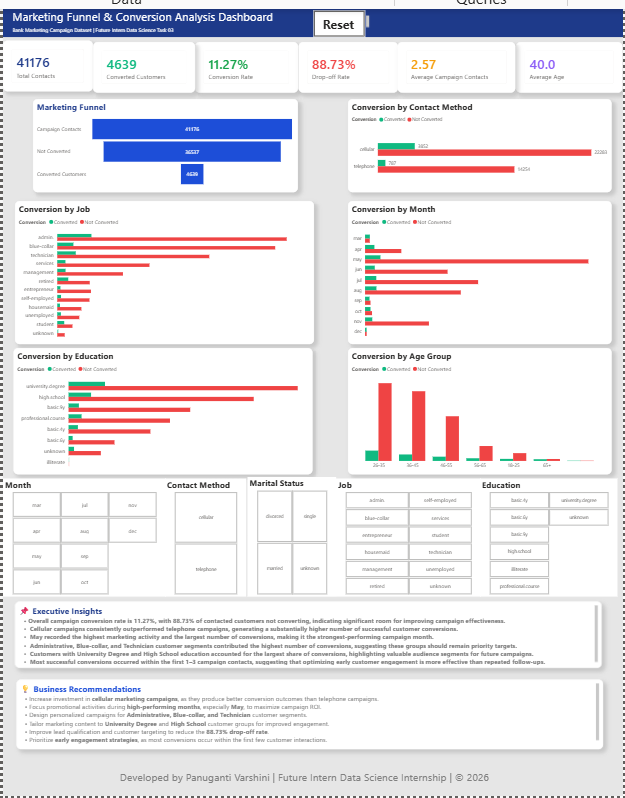

What the dashboard file says about the page in this screenshot:
{"tool":"powerbi","page":{"name":"Page 1","canvas":[1600,2030],"ordinal":0},"visuals":[{"type":"shape","box":[0,0,1601,72.4],"z":0},{"type":"textbox","title":"Marketing Funnel & Conversion Analysis Dashboard","box":[19.1,0,914.9,68.6],"z":1},{"type":"cardVisual","fields":{"Data":["Marketing_Funnel_Final.Total Contacts"]},"box":[0,82.3,231.8,131.1],"z":2},{"type":"cardVisual","fields":{"Data":["Marketing_Funnel_Final.Conversion Rate"]},"box":[495.6,83.4,265.8,130.7],"z":3},{"type":"cardVisual","fields":{"Data":["Marketing_Funnel_Final.Average Age"]},"box":[1324.7,83.4,274.8,130.7],"z":4},{"type":"cardVisual","fields":{"Data":["Marketing_Funnel_Final.Converted Customers"]},"box":[232,83.4,263.6,130.7],"z":5},{"type":"cardVisual","fields":{"Data":["Marketing_Funnel_Final.Drop-off Rate"]},"box":[761.5,83.4,256.8,130.7],"z":6},{"type":"cardVisual","fields":{"Data":["Marketing_Funnel_Final.Average Campaign Contacts"]},"box":[1018.3,83.4,304.1,130.7],"z":7},{"type":"funnel","title":"Marketing Funnel","fields":{"Category":["Marketing_Funnel.Stage"],"Y":["Sum(Marketing_Funnel.Customers)"]},"box":[79.3,231.8,683.1,240.9],"z":8},{"type":"clusteredBarChart","title":"Conversion by Contact Method","fields":{"Category":["Marketing_Funnel_Final.contact"],"Series":["Marketing_Funnel_Final.Conversion"],"Y":["Marketing_Funnel_Final.Total Contacts"]},"box":[890.5,231.8,680.1,240.9],"z":9},{"type":"clusteredBarChart","title":"Conversion by Job","fields":{"Category":["Marketing_Funnel_Final.job"],"Series":["Marketing_Funnel_Final.Conversion"],"Y":["Marketing_Funnel_Final.Total Contacts"]},"box":[30.5,494,771.6,369],"z":10},{"type":"clusteredBarChart","title":"Conversion by Month","fields":{"Series":["Marketing_Funnel_Final.Conversion"],"Y":["Marketing_Funnel_Final.Total Contacts"],"Category":["Month_Sort.Month"]},"box":[890.5,494,680.1,369],"z":11},{"type":"clusteredBarChart","title":"Conversion by Education","fields":{"Category":["Marketing_Funnel_Final.education"],"Series":["Marketing_Funnel_Final.Conversion"],"Y":["Marketing_Funnel_Final.Total Contacts"]},"box":[27.4,875.2,771.6,326.3],"z":12},{"type":"clusteredColumnChart","title":"Conversion by Age Group","fields":{"Category":["Marketing_Funnel_Final.Age_Group"],"Series":["Marketing_Funnel_Final.Conversion"],"Y":["Marketing_Funnel_Final.Total Contacts"]},"box":[890.5,875.2,680.1,326.3],"z":13},{"type":"slicer","title":"Month","fields":{"Values":["Month_Sort.Month"]},"box":[0,1212.2,419.3,305],"z":14},{"type":"slicer","title":"Contact Method","fields":{"Values":["Marketing_Funnel_Final.contact"]},"box":[419.3,1212.2,209.7,305],"z":15},{"type":"slicer","title":"Job","fields":{"Values":["Marketing_Funnel_Final.job"]},"box":[857.7,1212.2,373.6,305],"z":17},{"type":"slicer","title":"Marital Status","fields":{"Values":["Marketing_Funnel_Final.marital"]},"box":[629,1208.4,228.7,308.8],"z":18},{"type":"slicer","title":"Education","fields":{"Values":["Marketing_Funnel_Final.education"]},"box":[1231.3,1212.2,354.5,305],"z":19},{"type":"actionButton","title":"RESET","box":[800.5,3.8,133.4,68.6],"z":20},{"type":"textbox","box":[789.1,11.4,160.1,45.7],"z":21},{"type":"textbox","box":[30.5,1528.6,1513.4,171.5],"z":22},{"type":"textbox","box":[34.5,1727.8,1513.3,180.1],"z":23},{"type":"textbox","box":[100,100,300,300],"z":24},{"type":"textbox","box":[147,1957.8,1261.4,54.2],"z":25}]}

Visuals, with their boxes on the page's 1600x2030 design canvas (x1, y1, x2, y2). These are canvas units, not pixel positions in the 625x798 screenshot, which may show the page scaled, cropped or inside an application window:
shape: detection(0, 0, 1601, 72)
"Marketing Funnel & Conversion Analysis Dashboard" textbox: detection(19, 0, 934, 69)
cardVisual - Marketing_Funnel_Final.Total Contacts: detection(0, 82, 232, 213)
cardVisual - Marketing_Funnel_Final.Conversion Rate: detection(496, 83, 761, 214)
cardVisual - Marketing_Funnel_Final.Average Age: detection(1325, 83, 1600, 214)
cardVisual - Marketing_Funnel_Final.Converted Customers: detection(232, 83, 496, 214)
cardVisual - Marketing_Funnel_Final.Drop-off Rate: detection(762, 83, 1018, 214)
cardVisual - Marketing_Funnel_Final.Average Campaign Contacts: detection(1018, 83, 1322, 214)
"Marketing Funnel" funnel: detection(79, 232, 762, 473)
"Conversion by Contact Method" clusteredBarChart: detection(890, 232, 1571, 473)
"Conversion by Job" clusteredBarChart: detection(30, 494, 802, 863)
"Conversion by Month" clusteredBarChart: detection(890, 494, 1571, 863)
"Conversion by Education" clusteredBarChart: detection(27, 875, 799, 1202)
"Conversion by Age Group" clusteredColumnChart: detection(890, 875, 1571, 1202)
"Month" slicer: detection(0, 1212, 419, 1517)
"Contact Method" slicer: detection(419, 1212, 629, 1517)
"Job" slicer: detection(858, 1212, 1231, 1517)
"Marital Status" slicer: detection(629, 1208, 858, 1517)
"Education" slicer: detection(1231, 1212, 1586, 1517)
"RESET" actionButton: detection(800, 4, 934, 72)
textbox: detection(789, 11, 949, 57)
textbox: detection(30, 1529, 1544, 1700)
textbox: detection(34, 1728, 1548, 1908)
textbox: detection(100, 100, 400, 400)
textbox: detection(147, 1958, 1408, 2012)
